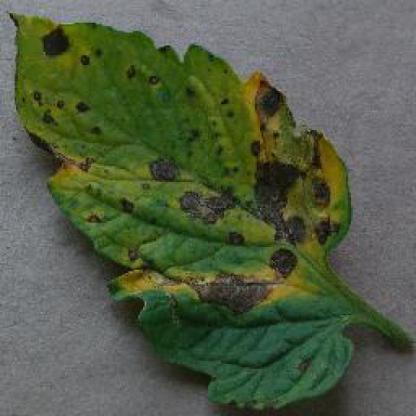Tomato_Blight: (10, 11, 354, 404)
